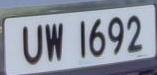1: (75, 15, 90, 65)
2: (125, 11, 145, 57)
6: (87, 14, 109, 63)
9: (106, 12, 126, 61)
U: (19, 20, 46, 70)
W: (42, 18, 67, 69)
